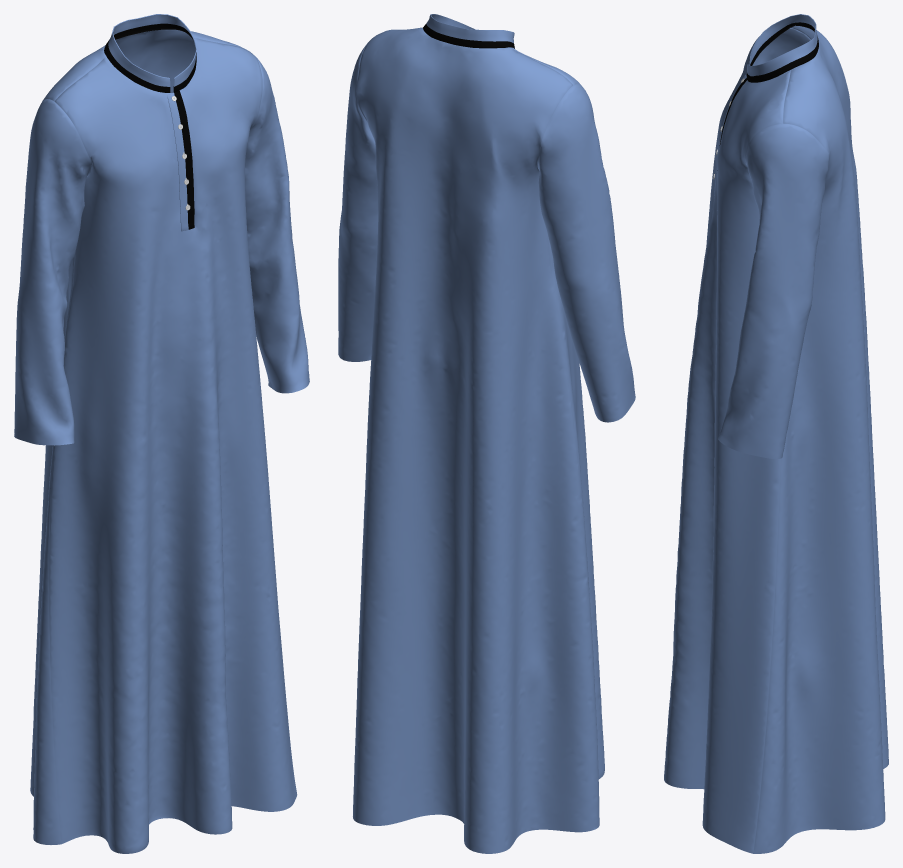
The model's file is kandura_round_close_neck.glb.
The picture shows the model from 3 angles, left to right: view 1: azimuth 30°, elevation 25°; view 2: azimuth 150°, elevation 25°; view 3: azimuth 270°, elevation 25°; orthographic projection. The views are drawn at different scales.
Visible parts, largest first — view 1: Cloth.002, Cloth.001; view 2: Cloth.002, Cloth.001; view 3: Cloth.002, Cloth.001.
Part boxes in pixels (<box>): Cloth.002: <box>14,14,309,853</box>; Cloth.001: <box>104,23,196,229</box>; Cloth.002: <box>338,14,635,853</box>; Cloth.001: <box>423,24,514,48</box>; Cloth.002: <box>664,14,888,853</box>; Cloth.001: <box>717,22,818,170</box>.
Size of the model in its own units: 59.58 by 158 by 42.12.
